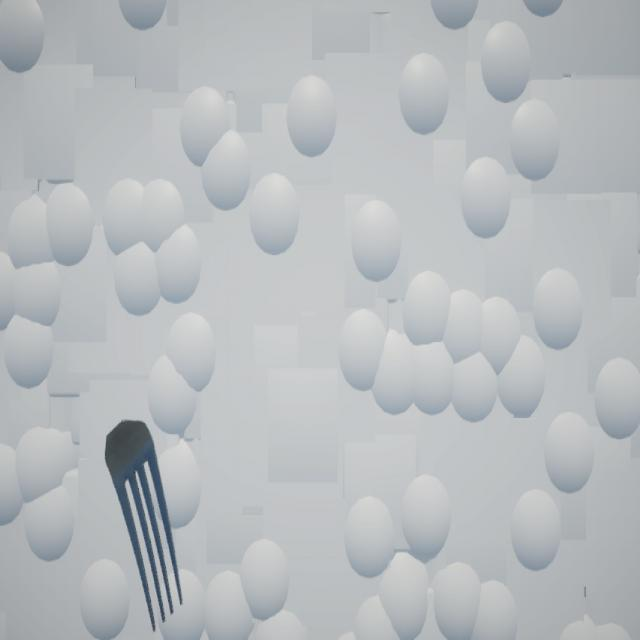top_folk: (105, 420, 184, 634)
